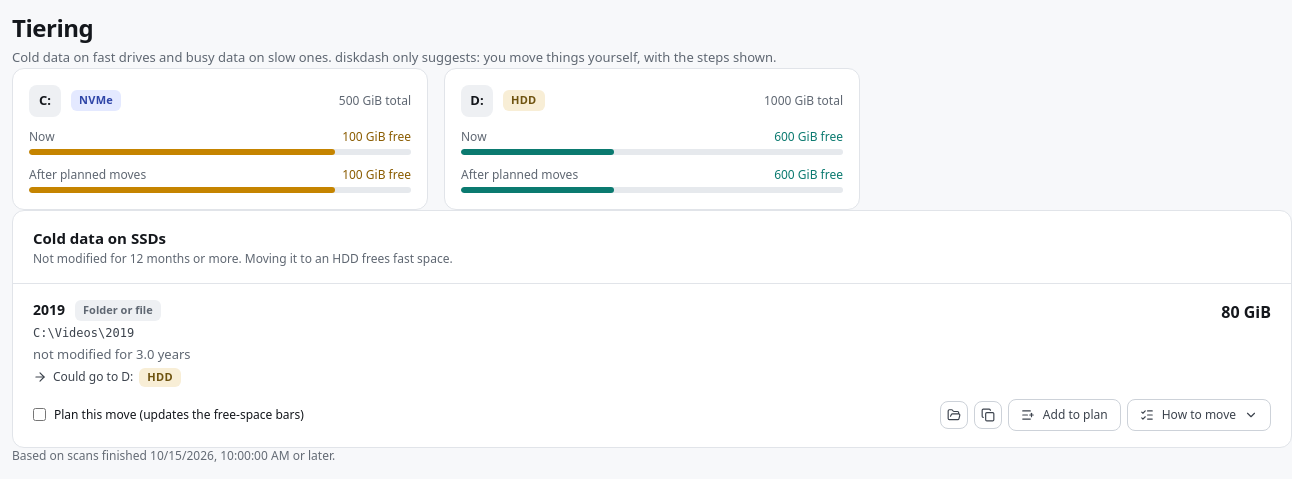
TieringPage › planning a move updates the projected free space
Click the checkbox at (40, 415), box left=33, top=408, right=46, bottom=421
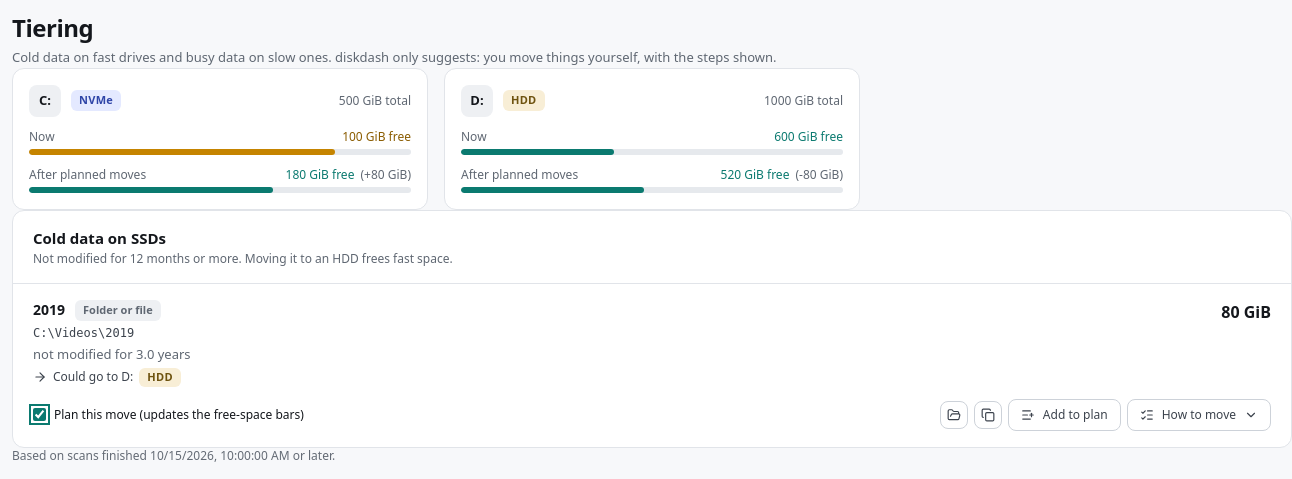
Expected: the text "180 GiB" is shown, left=286, top=166, right=329, bottom=182
Expected: the text "(+80 GiB)" is shown, left=360, top=166, right=411, bottom=182
Expected: the text "(-80 GiB)" is shown, left=795, top=166, right=843, bottom=182
